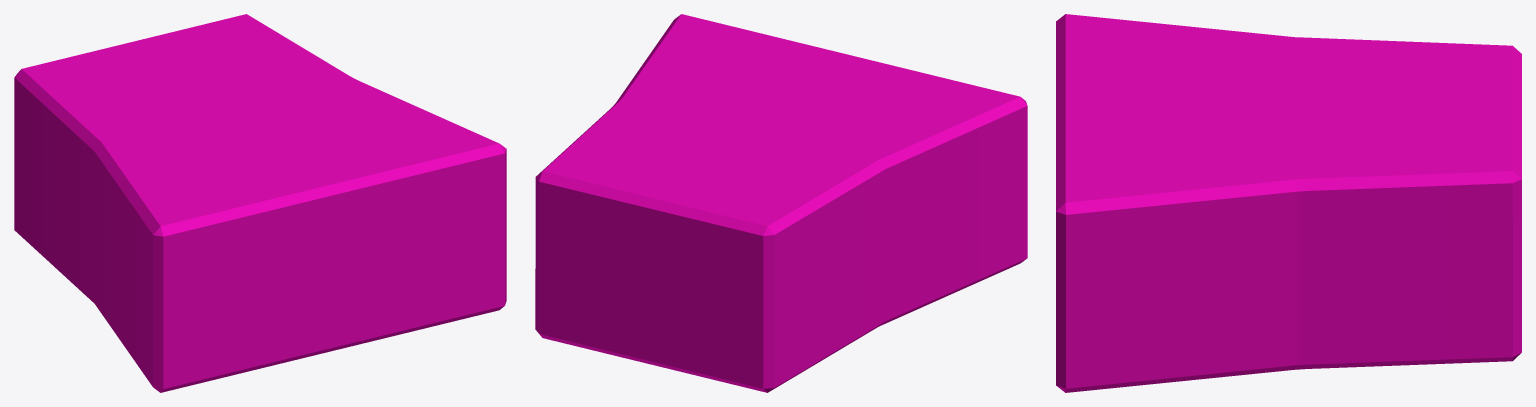
Rendered from Cylindre_Lign_Board_B.fbx.
3 views of the same model, side by side, from view 1: azimuth 30°, elevation 25°; view 2: azimuth 150°, elevation 25°; view 3: azimuth 270°, elevation 25° (orthographic). The views are drawn at different scales.
Visible parts, largest first — view 1: Cylindre_Lign_Board_B; view 2: Cylindre_Lign_Board_B; view 3: Cylindre_Lign_Board_B.
Part boxes in pixels (<box>): Cylindre_Lign_Board_B: <box>14,14,506,392</box>; Cylindre_Lign_Board_B: <box>535,14,1027,392</box>; Cylindre_Lign_Board_B: <box>1056,14,1521,392</box>.
Size of the model in its own units: 12.15 by 5.48 by 12.15.
